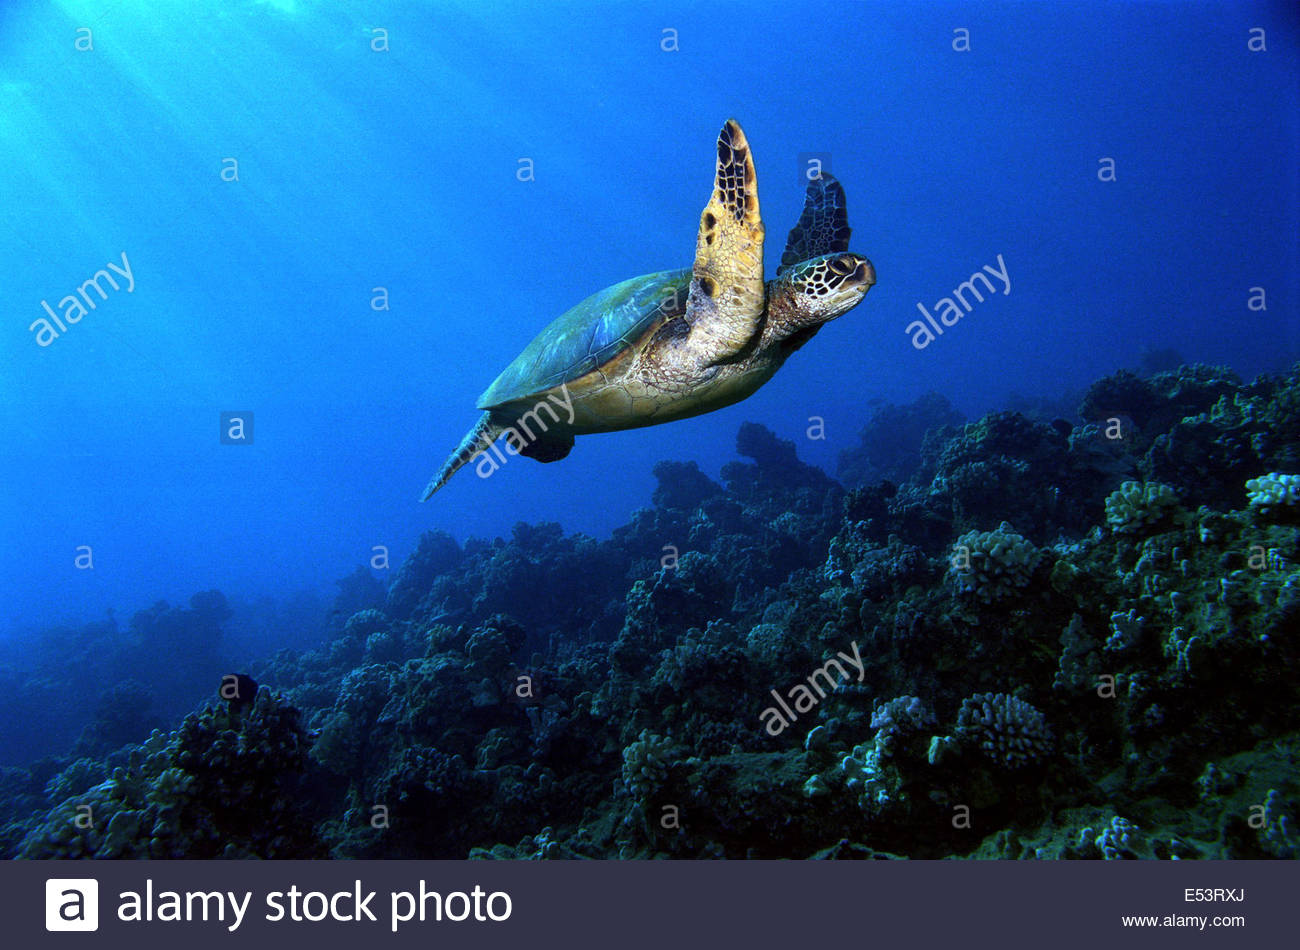trutle: (408, 109, 881, 534)
